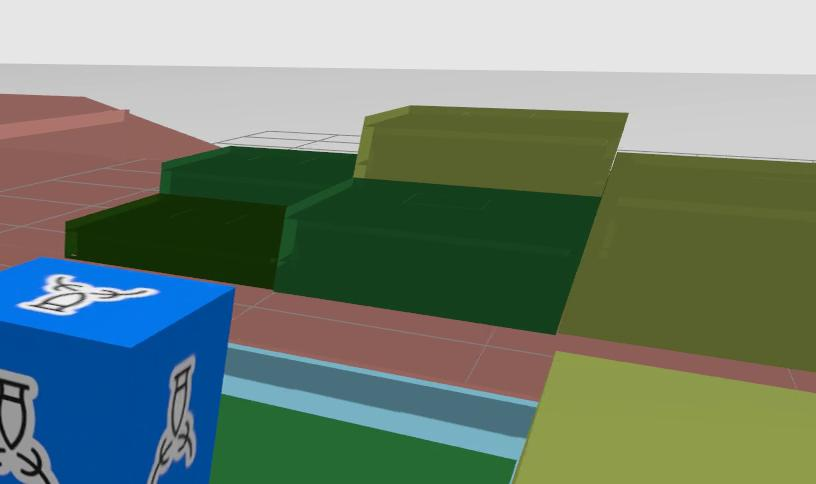KFS_REAL: (0, 258, 234, 484), (0, 369, 59, 484), (146, 356, 195, 484), (18, 275, 157, 315)
